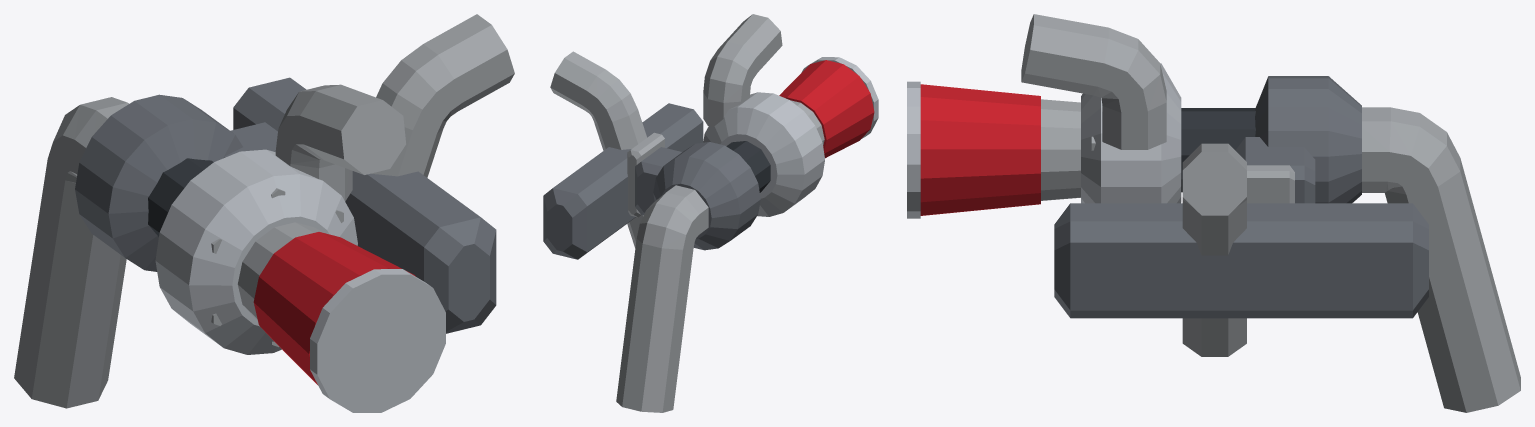
Rendered from ridgeback_4x4.glb.
3 views of the same model, side by side, from view 1: azimuth 30°, elevation 25°; view 2: azimuth 150°, elevation 25°; view 3: azimuth 270°, elevation 25° (orthographic). The views are drawn at different scales.
Parts seen in each view (by area): view 1: model; view 2: model; view 3: model.
Part boxes in pixels (box(x1,y1,x2,y2)): model: box(14, 14, 514, 412); model: box(543, 14, 878, 412); model: box(907, 14, 1520, 412).
Size of the model in its own units: 0.2916 by 0.3362 by 0.4587.
Materials: 2 (1 with a texture image).
